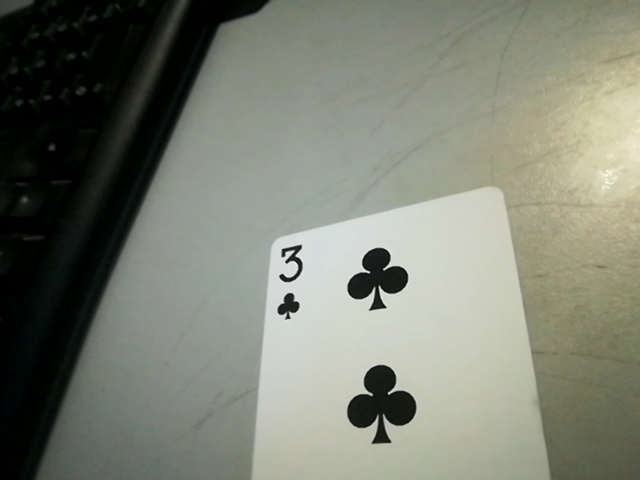mh 3: (261, 234, 316, 323)
